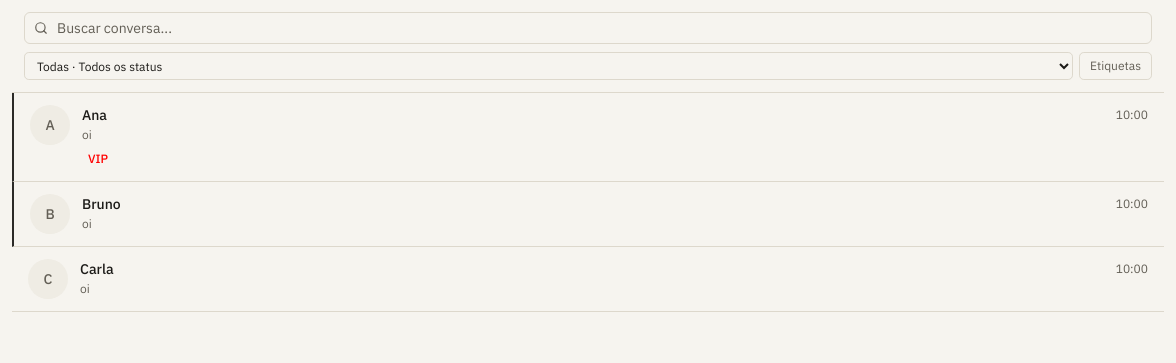
Scenario: B48-19 — Telas menos carregadas › CA-B48-46: should deixar as etiquetas atrás do botão "Etiquetas"
Click the button "Etiquetas". click: coordinates (1116, 66)
box: [1079,52,1152,80]
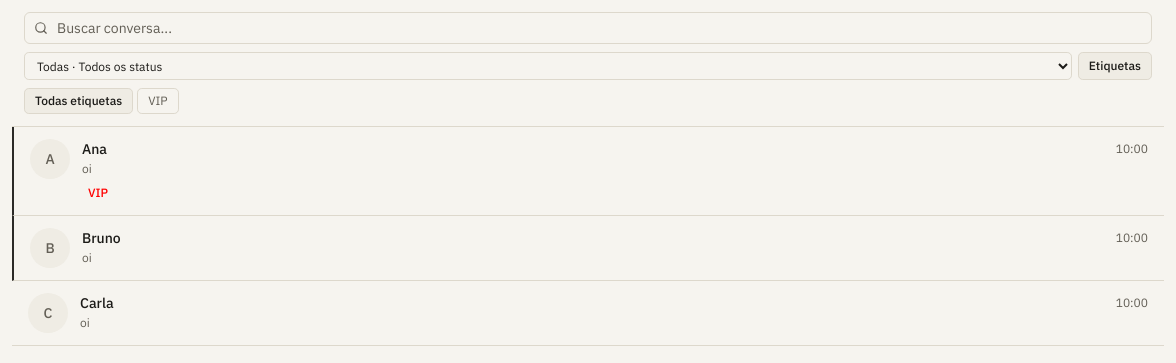
Click the button "VIP". click: coordinates (158, 101)
box: [137,88,179,114]
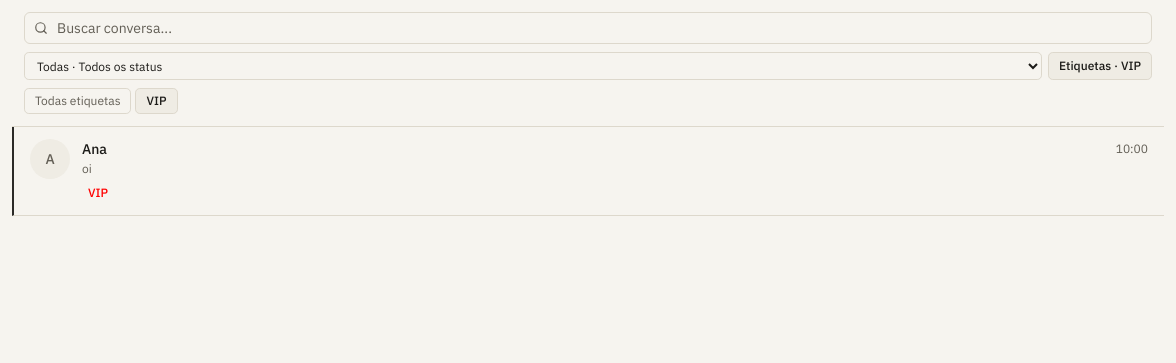
Expected: the button "Etiquetas · VIP" is shown, [1048,52,1152,80]
